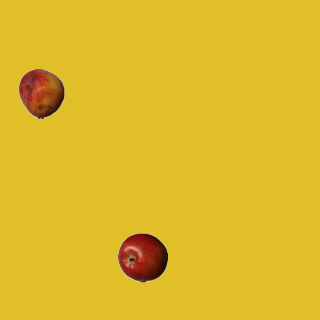Apple Braeburn: (117, 232, 167, 282)
Peach: (16, 68, 66, 118)
